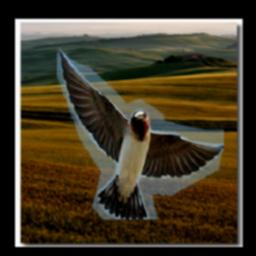Swallow: (57, 48, 224, 220)
